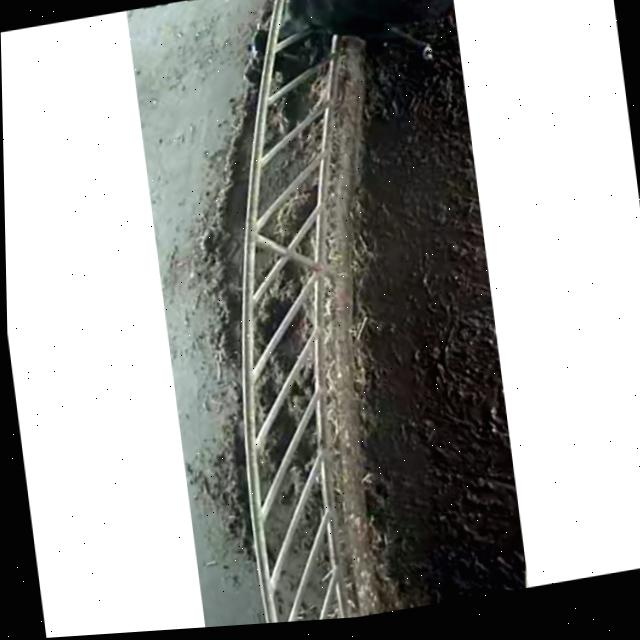eat: (194, 0, 435, 115)
